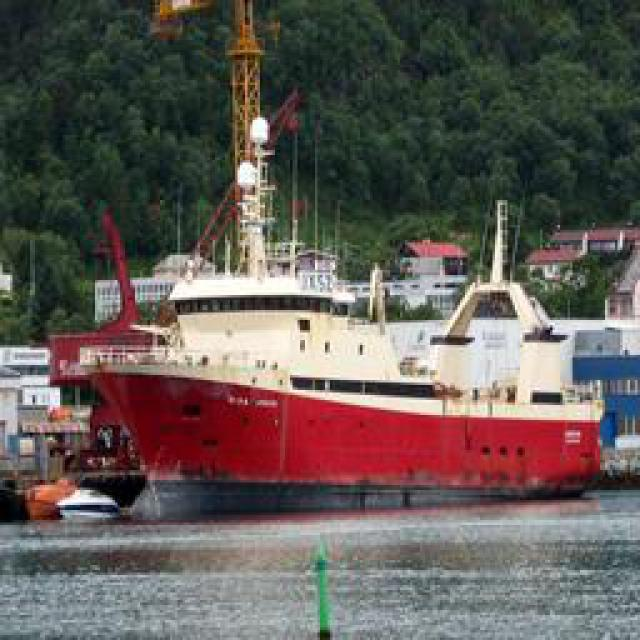Ship: (42, 159, 610, 502)
